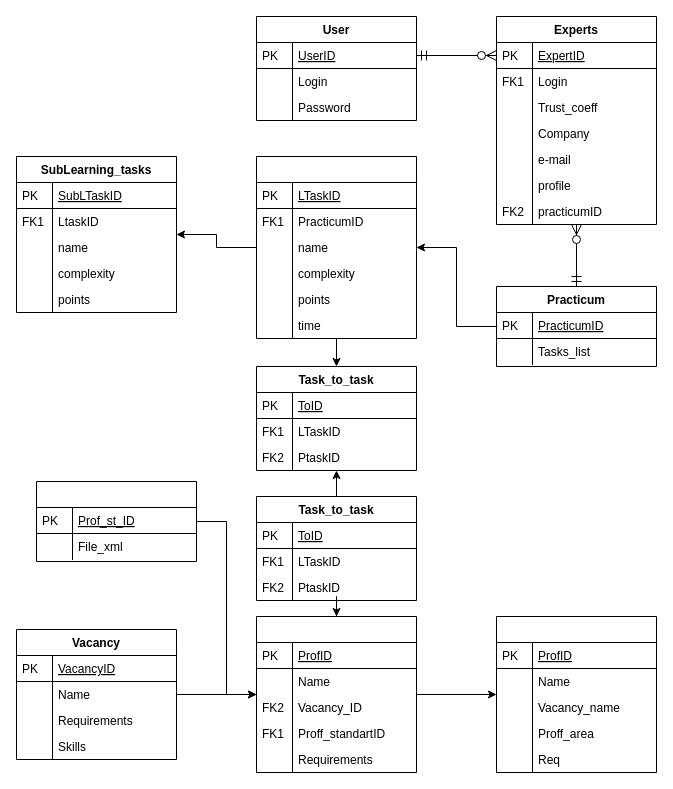
Some shapes in this 673 by 789 pixel diagram are drawn without their labels. The box of each missing label's shape, as (x1, y1, x2, y2) in pixels:
Learning_tasks: (256, 156, 416, 338)
Prof_standart: (36, 480, 196, 562)
Prof_task: (256, 616, 416, 772)
SubProf_task: (496, 616, 656, 772)
